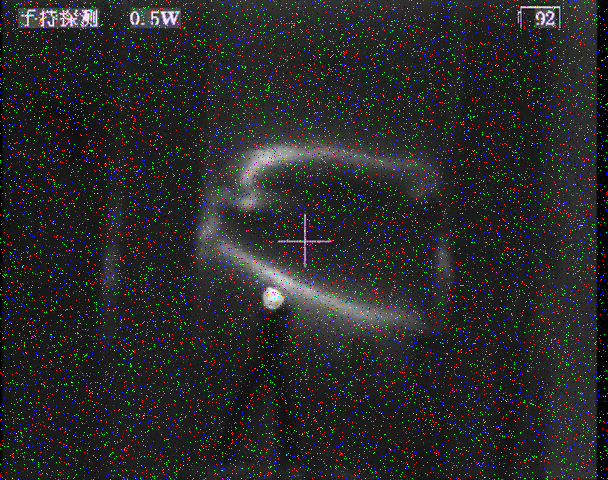my: (258, 285, 287, 311)
